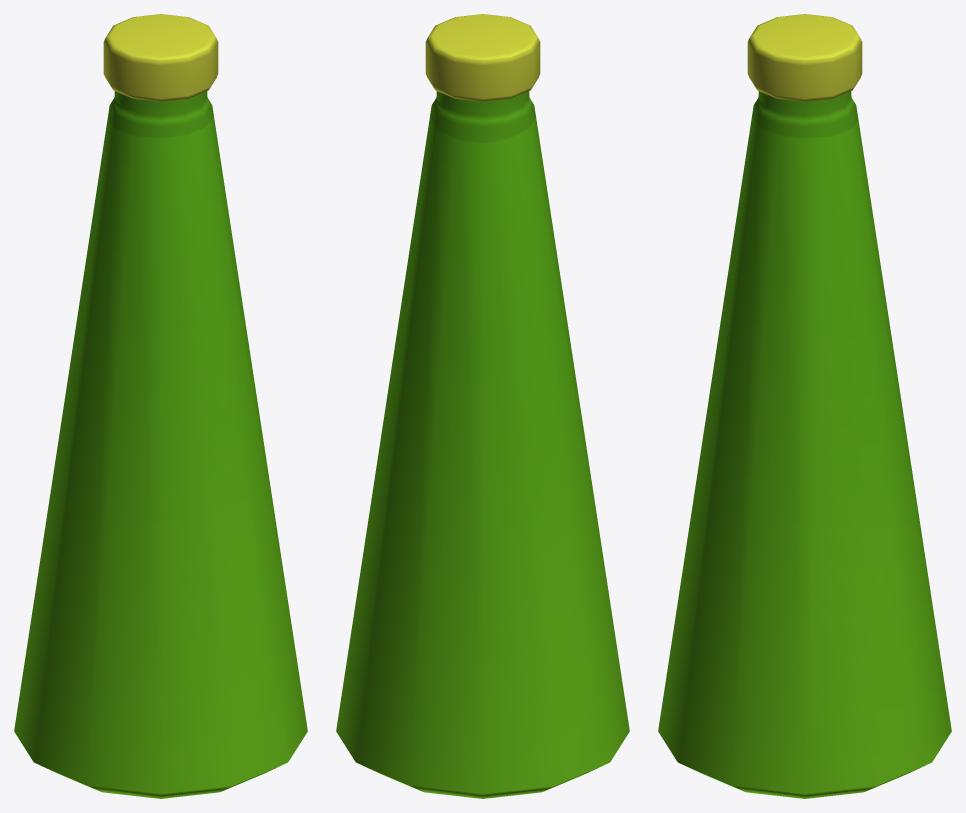
The model's file is Bottle05.fbx.
3 views of the same model, side by side, from view 1: azimuth 30°, elevation 25°; view 2: azimuth 150°, elevation 25°; view 3: azimuth 270°, elevation 25° (orthographic).
Visible parts, largest first — view 1: Bottle5; view 2: Bottle5; view 3: Bottle5.
Part boxes in pixels (<box>): Bottle5: <box>14,14,307,798</box>; Bottle5: <box>336,14,629,798</box>; Bottle5: <box>658,14,951,798</box>.
Bounding box in the file's own units: 37.02 × 99.18 × 37.02.
